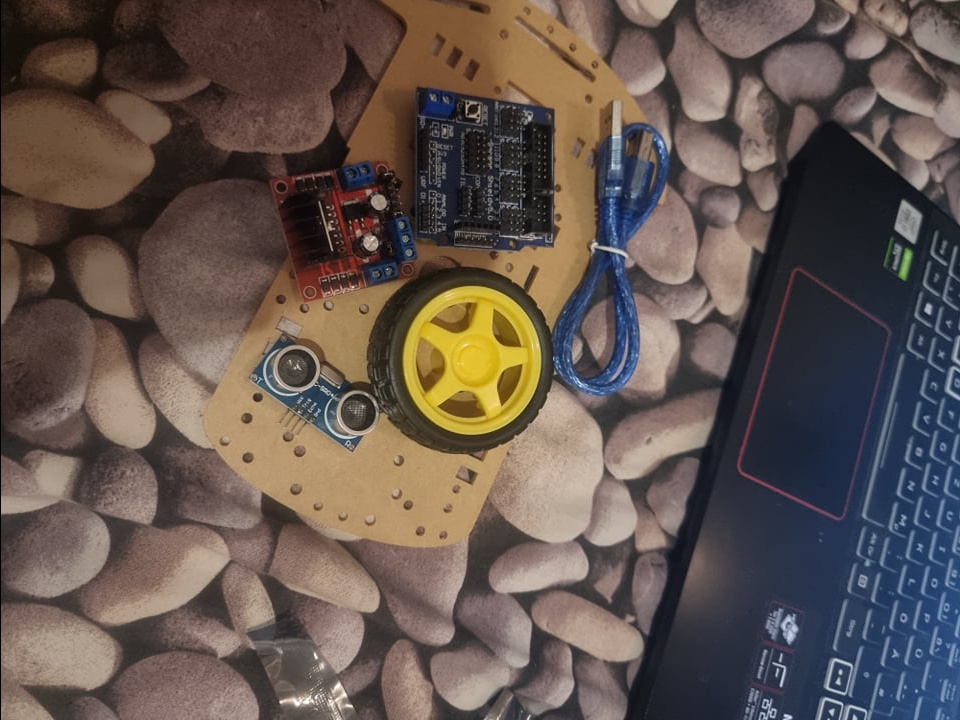5V EXPANSION: (411, 87, 555, 250)
MOTOR: (267, 163, 414, 302)
SENSOR: (259, 335, 377, 446)
